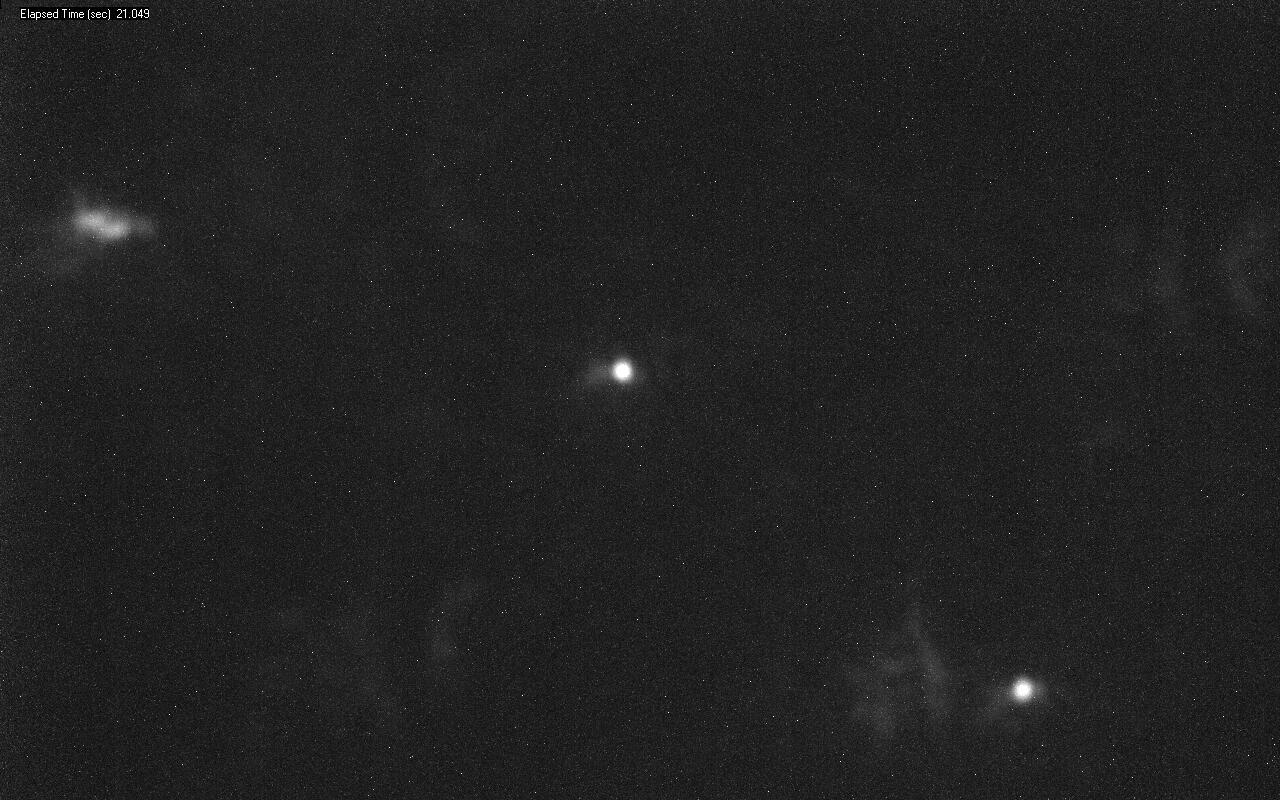Bead: (611, 359, 633, 383), (1012, 679, 1034, 701)
